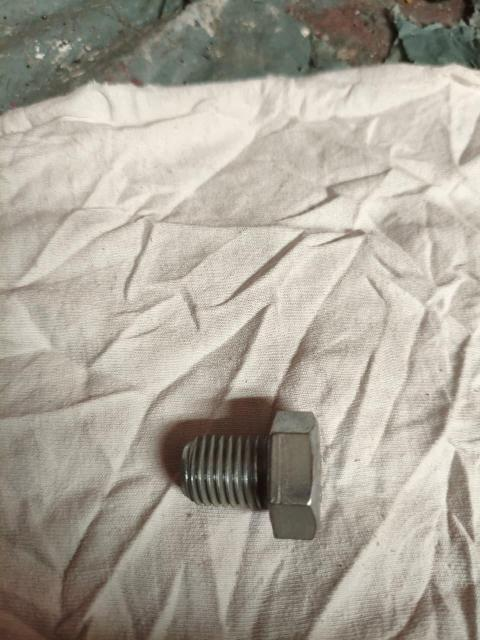Metal: (178, 418, 335, 538)
